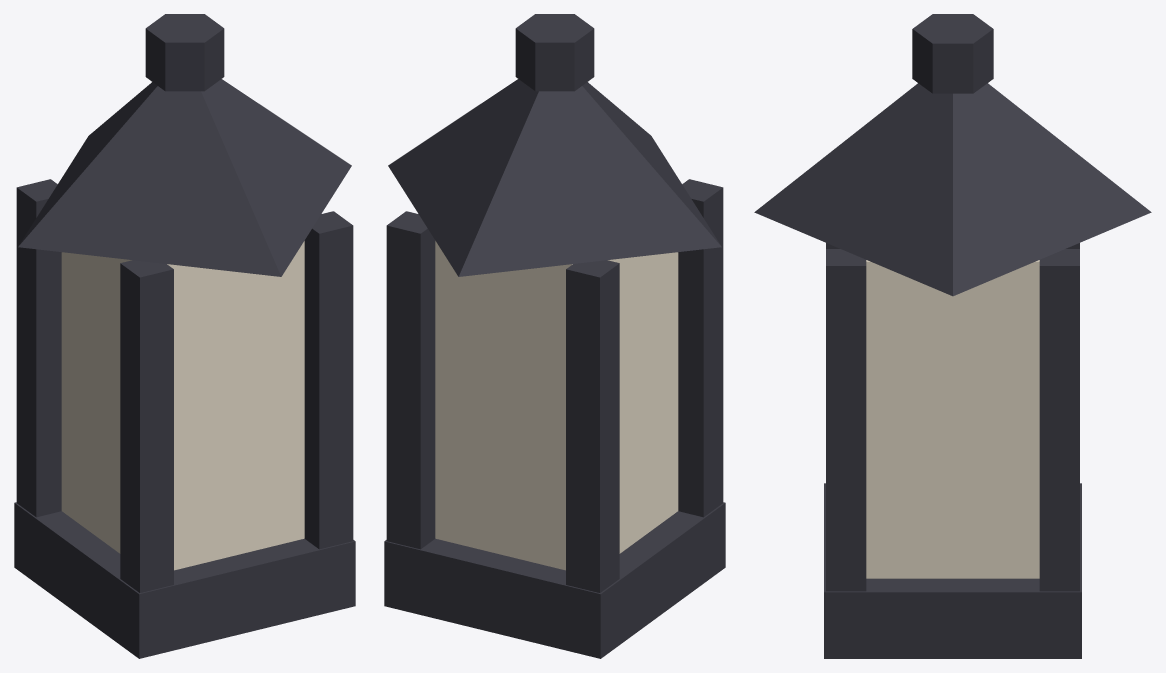
The model's file is deco_lantern.obj.
3 views of the same model, side by side, from view 1: azimuth 30°, elevation 25°; view 2: azimuth 150°, elevation 25°; view 3: azimuth 270°, elevation 25° (orthographic). The views are drawn at different scales.
Parts seen in each view (by area): view 1: deco_lantern; view 2: deco_lantern; view 3: deco_lantern.
Part boxes in pixels (x1=…): deco_lantern: x1=14, y1=14, x2=355, y2=658; deco_lantern: x1=384, y1=14, x2=725, y2=658; deco_lantern: x1=754, y1=14, x2=1151, y2=658.
Bounding box in the file's own units: 0.0216 × 0.0345 × 0.0216.
Materials: 1 (1 with a texture image).
